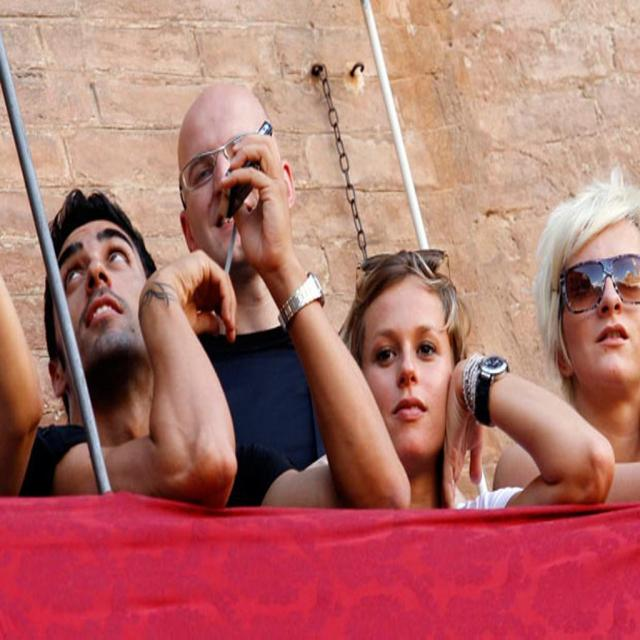nomask: (365, 292, 450, 463), (182, 101, 272, 262), (51, 215, 142, 360), (564, 212, 638, 380)
